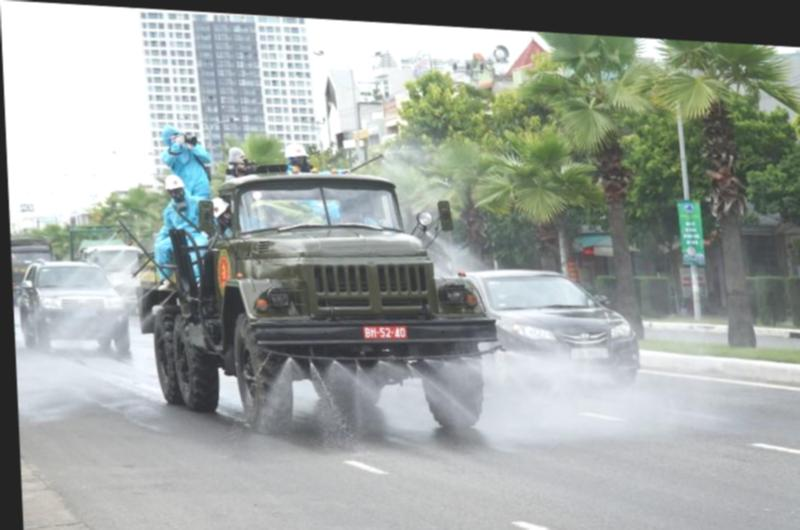License_Plate: (363, 323, 407, 346), (569, 345, 610, 360)
